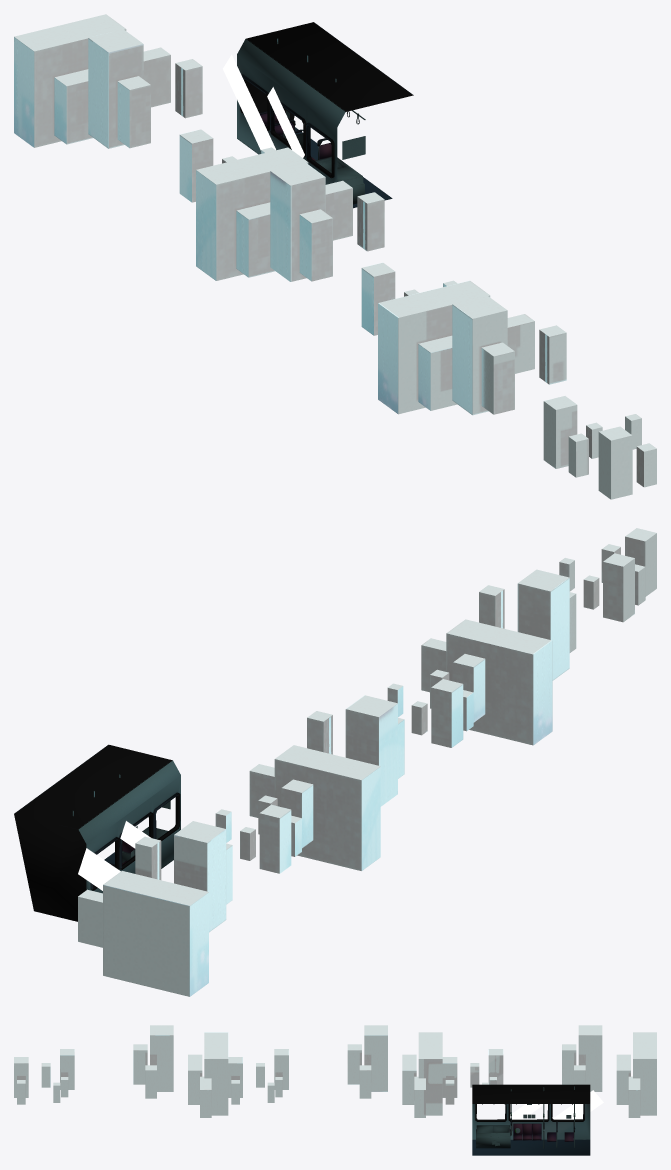
File: bus.glb
The picture shows the model from 3 angles, top to bottom: view 1: azimuth 30°, elevation 25°; view 2: azimuth 150°, elevation 25°; view 3: azimuth 270°, elevation 25°; orthographic projection. The views are drawn at different scales.
Parts seen in each view (by area): view 1: building_a, Plane.006; view 2: building_a, Plane.006; view 3: building_a, Plane.006.
Boxes of the visible parts, bbox=[...] form: building_a: bbox=[14, 14, 656, 499]; Plane.006: bbox=[223, 22, 413, 208]; building_a: bbox=[78, 528, 656, 996]; Plane.006: bbox=[14, 744, 180, 921]; building_a: bbox=[14, 1025, 656, 1117]; Plane.006: bbox=[472, 1084, 603, 1155].
Bounding box in the file's own units: 8.73 × 4.5 × 33.97.
Materials: 3 (1 with a texture image).
